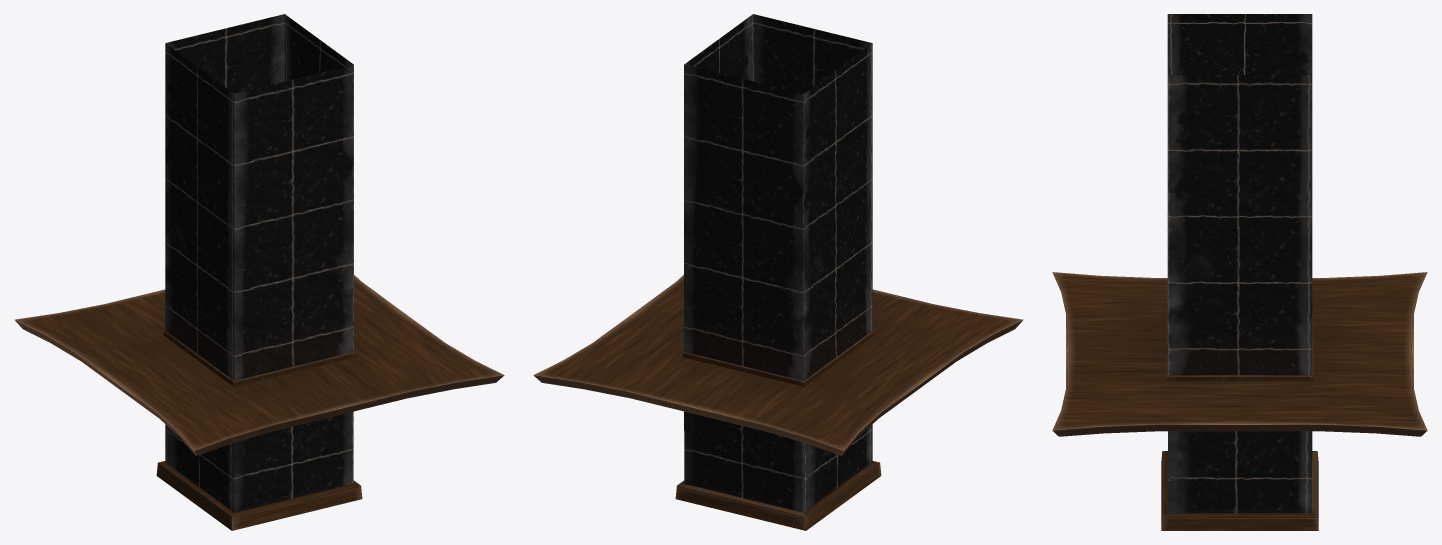
The model's file is SM_Pillar_LOD1.fbx.
3 renders of one model, left to right at view 1: azimuth 30°, elevation 25°; view 2: azimuth 150°, elevation 25°; view 3: azimuth 270°, elevation 25°, orthographic. The views are drawn at different scales.
Parts seen in each view (by area): view 1: Pillar_Lod1; view 2: Pillar_Lod1; view 3: Pillar_Lod1.
Boxes of the visible parts, x1,y1,x2,y2 form: Pillar_Lod1: (14, 14, 504, 530); Pillar_Lod1: (533, 14, 1023, 530); Pillar_Lod1: (1052, 14, 1427, 530).
Size of the model in its own units: 284 by 378 by 284.
